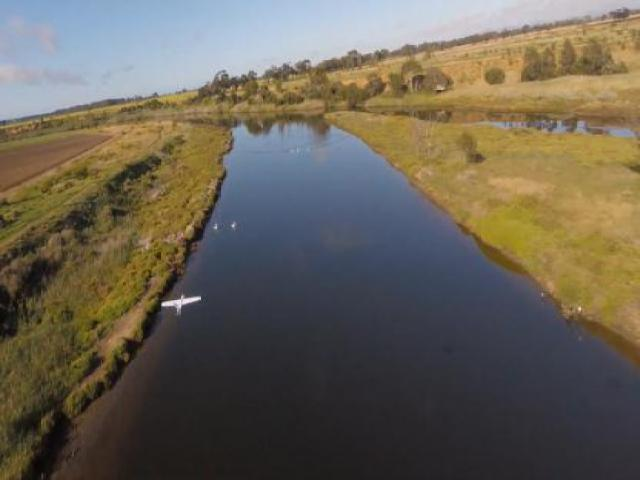uav: (159, 291, 201, 317)
